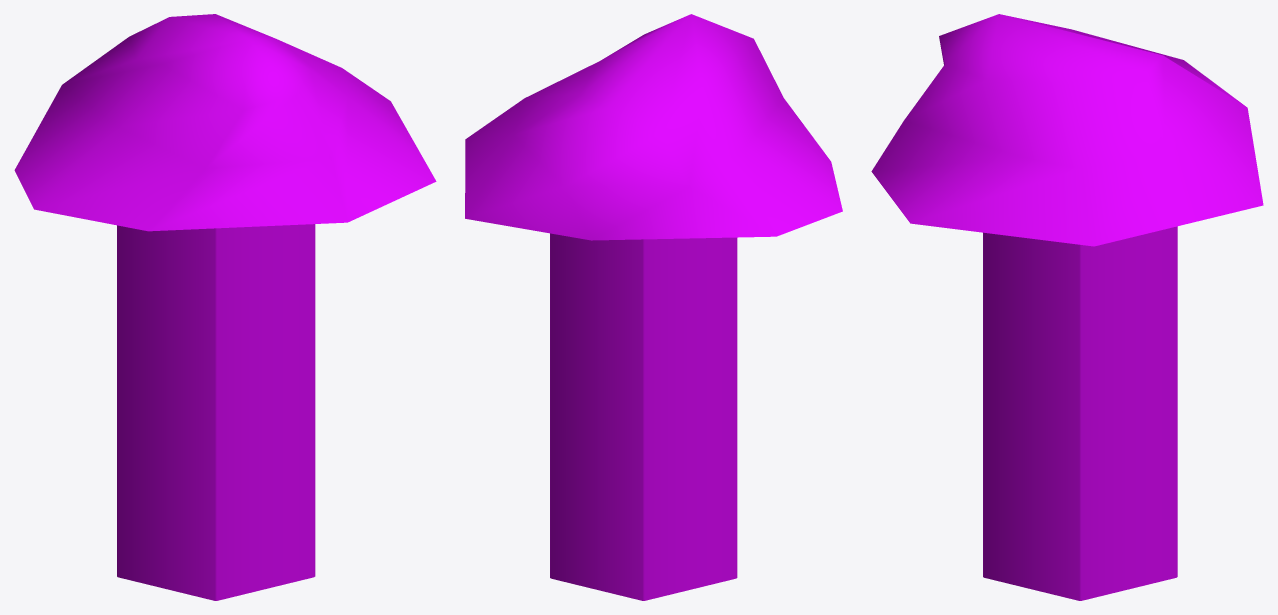
File: RocktestSmooth.FBX
3 views of the same model, side by side, from view 1: azimuth 30°, elevation 25°; view 2: azimuth 150°, elevation 25°; view 3: azimuth 270°, elevation 25° (orthographic). The views are drawn at different scales.
Parts seen in each view (by area): view 1: Object177; view 2: Object177; view 3: Object177.
Part boxes in pixels (<box>): Object177: <box>14,14,436,600</box>; Object177: <box>465,14,842,600</box>; Object177: <box>871,14,1263,600</box>.
Bounding box in the file's own units: 480 × 439 × 662.
